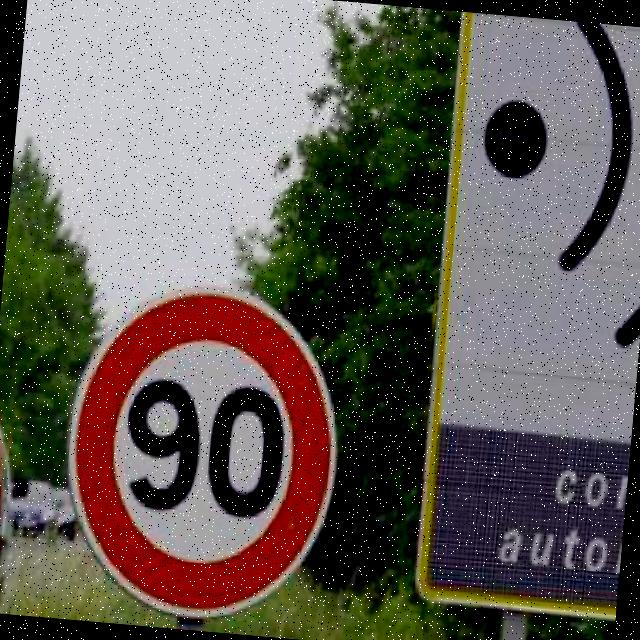Ograniczenie predkosci do 90: (60, 280, 343, 618)
